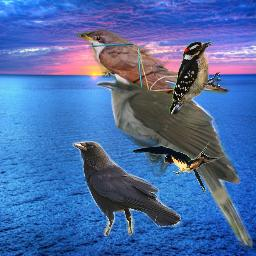Crow: (72, 141, 181, 236)
Cuckoo: (97, 74, 253, 251), (75, 26, 232, 102)
Swallow: (130, 141, 234, 195)
Woodpecker: (169, 41, 221, 114)
